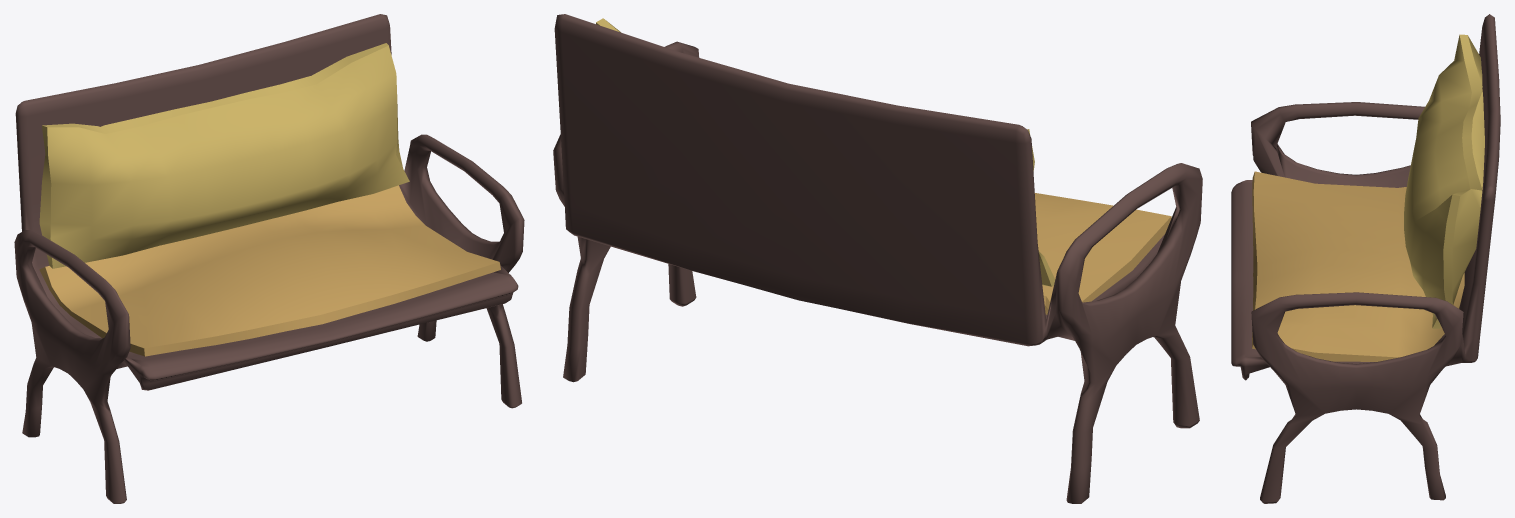
File: Sem_Bank_Color.fbx
3 renders of one model, left to right at view 1: azimuth 30°, elevation 25°; view 2: azimuth 150°, elevation 25°; view 3: azimuth 270°, elevation 25°, orthographic. The views are drawn at different scales.
Parts seen in each view (by area): view 1: pCube4; view 2: pCube4; view 3: pCube4.
Part boxes in pixels (x1,y1,x2,y2): pCube4: (14, 14, 524, 503); pCube4: (553, 14, 1202, 503); pCube4: (1231, 14, 1500, 503).
Bounding box in the file's own units: 5.2 × 3.81 × 3.03.
